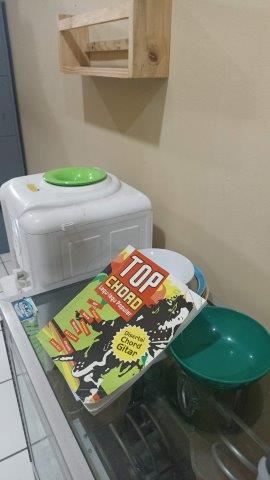kertas: (34, 243, 208, 413)
